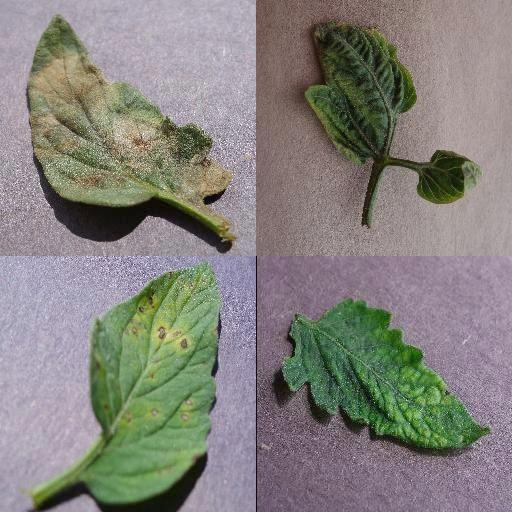Late Blight: (25, 10, 235, 208)
Mosaic Virus: (281, 297, 491, 451)
Septoria: (88, 261, 222, 505)
Yellow Leaf Curl Virus: (300, 20, 418, 166), (413, 147, 483, 205)
